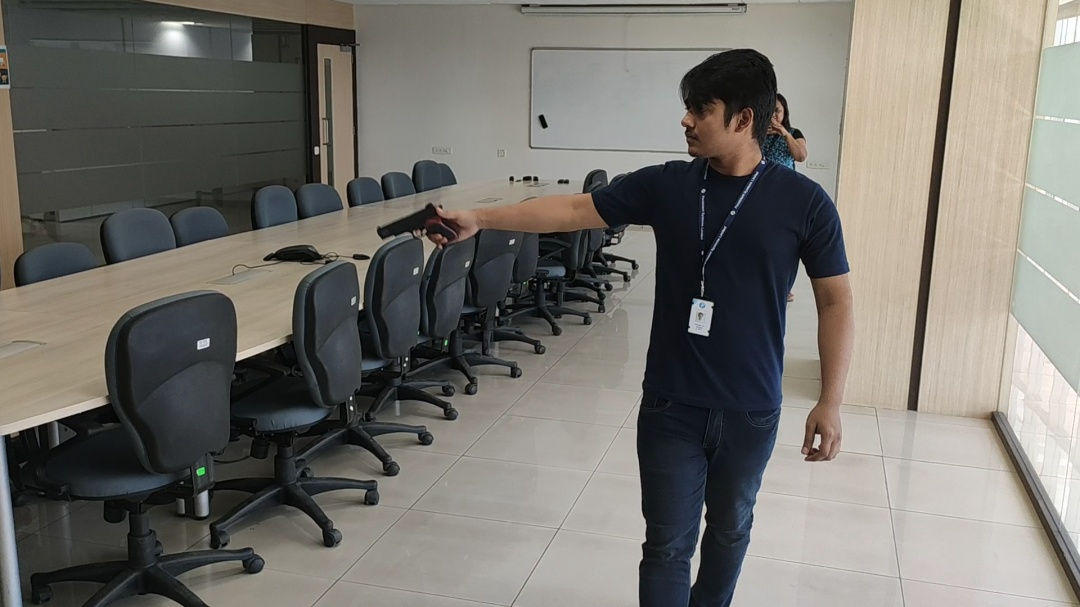gun: (375, 200, 461, 244)
